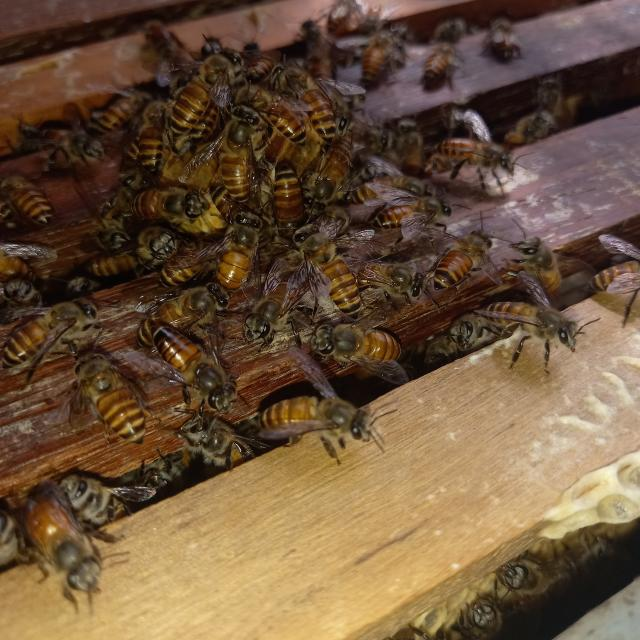honeybee: (252, 378, 390, 462), (16, 478, 106, 598), (65, 342, 150, 447), (486, 290, 583, 376), (294, 216, 364, 326), (0, 290, 101, 366), (148, 315, 233, 405), (170, 43, 242, 148), (431, 207, 499, 305), (63, 452, 156, 522), (13, 100, 110, 167), (427, 123, 513, 196), (276, 47, 339, 143), (311, 316, 406, 375), (349, 239, 436, 303), (517, 208, 572, 303), (589, 230, 640, 332), (210, 200, 264, 293), (173, 408, 250, 472), (227, 75, 305, 138), (368, 186, 454, 241), (213, 108, 263, 200), (0, 161, 67, 229), (84, 236, 164, 290), (480, 2, 536, 79), (128, 175, 208, 228), (318, 122, 366, 209), (91, 63, 150, 132), (270, 145, 310, 246), (131, 0, 189, 63), (0, 234, 60, 288), (503, 101, 570, 149), (349, 25, 398, 90), (167, 222, 212, 284), (134, 96, 166, 180), (387, 113, 424, 178), (310, 0, 369, 37), (420, 27, 452, 95), (532, 69, 568, 115), (0, 478, 15, 578)
